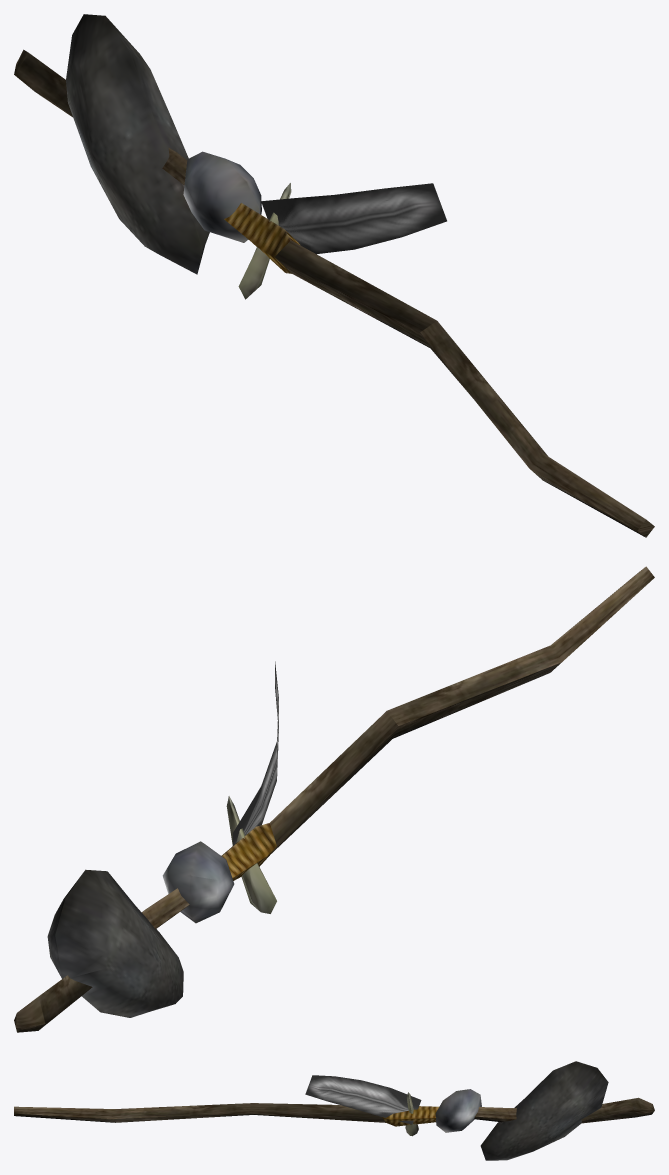
Rendered from voodoo_staff_a_high.fbx.
The picture shows the model from 3 angles, top to bottom: view 1: azimuth 30°, elevation 25°; view 2: azimuth 150°, elevation 25°; view 3: azimuth 270°, elevation 25°; orthographic projection. The views are drawn at different scales.
Parts seen in each view (by area): view 1: stone_large, wood_staff, feather, gem, spike; view 2: wood_staff, stone_large, gem, spike, feather, feather1; view 3: wood_staff, stone_large, feather1, gem, feather, spike.
Part boxes in pixels (x1,y1,x2,y2): stone_large: (66, 14, 209, 274); wood_staff: (14, 49, 654, 537); feather: (261, 183, 446, 253); gem: (183, 151, 261, 242); spike: (238, 183, 291, 299); wood_staff: (14, 566, 654, 1032); stone_large: (47, 869, 183, 1017); gem: (162, 841, 234, 923); spike: (226, 796, 276, 913); feather: (233, 698, 278, 845); feather1: (233, 661, 278, 845); wood_staff: (14, 1097, 654, 1126); stone_large: (480, 1061, 608, 1160); feather1: (306, 1075, 419, 1124); gem: (435, 1089, 481, 1132); feather: (305, 1075, 421, 1124); spike: (405, 1092, 418, 1136).
Size of the model in its own units: 40.53 by 65.58 by 374.
Materials: 2 (2 with a texture image).
